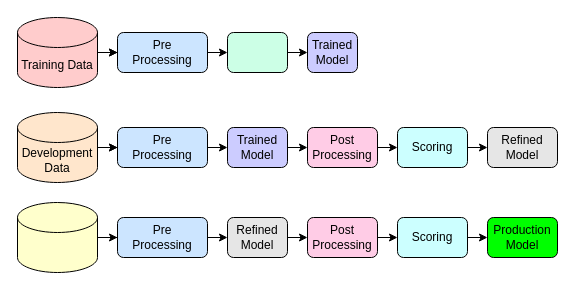
Some shapes in this 575 by 290 pixel diagram are drawn without their labels. Here are the shapes that lost their labels. From the top down, the centre of each, then its label:
the point at 257,52: Model Fitting
the point at 57,237: Evaluation Data
